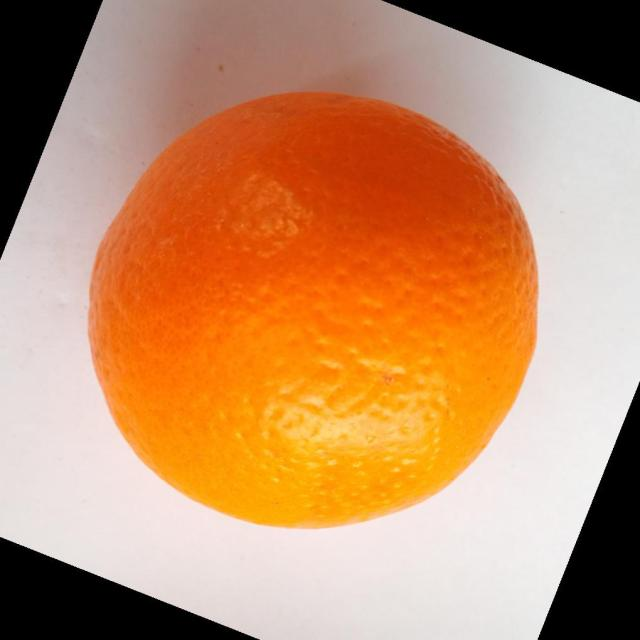fresh orange: (86, 89, 540, 530)
